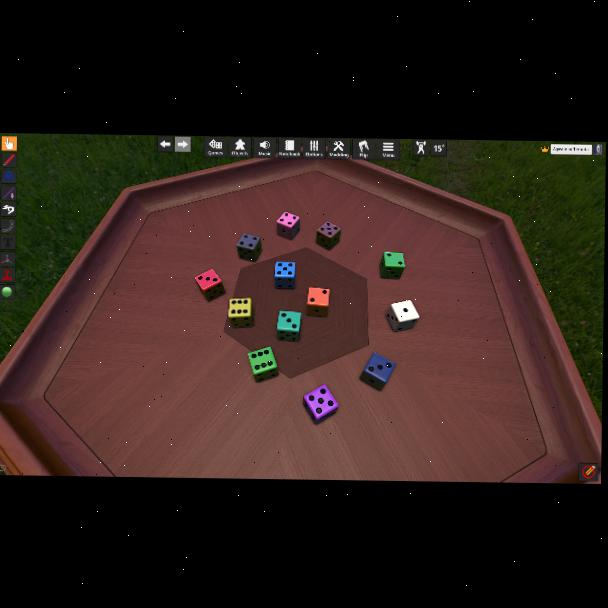d6: (303, 384, 339, 424), (359, 353, 394, 392), (386, 299, 419, 333), (248, 347, 279, 383), (195, 269, 223, 301), (236, 233, 263, 262), (229, 297, 254, 328), (314, 222, 339, 252), (276, 311, 300, 342), (379, 252, 405, 280), (306, 288, 329, 318), (276, 211, 299, 239), (274, 261, 296, 289)
